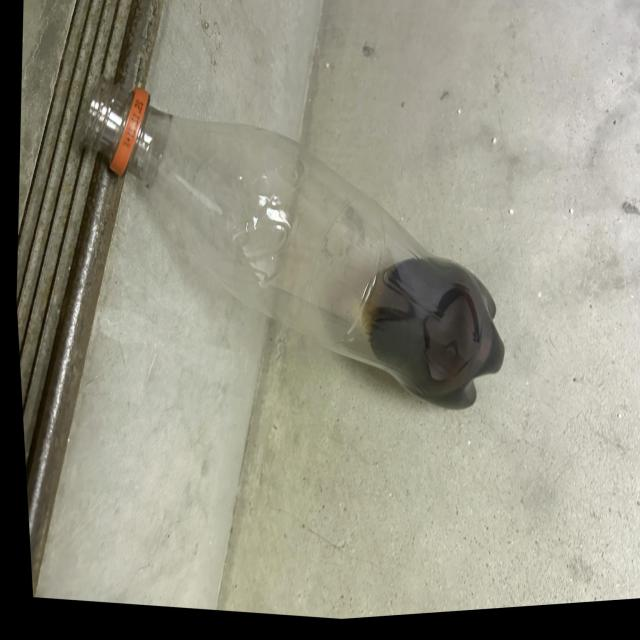low: (82, 78, 504, 409)
